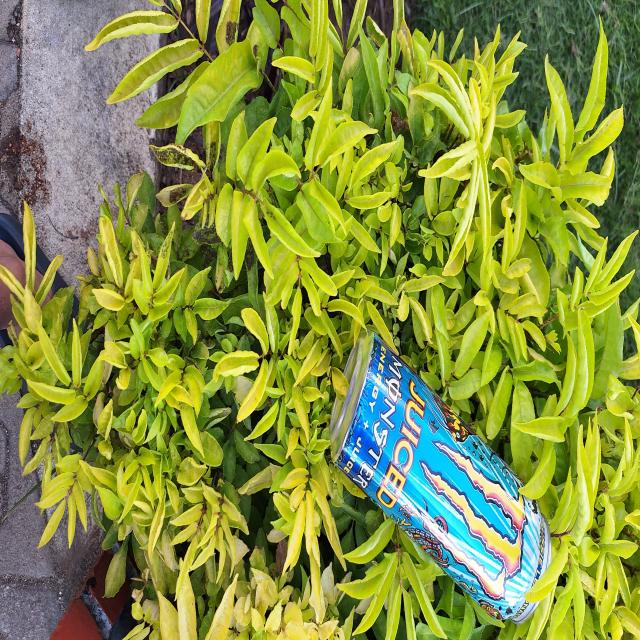Monster Aussie Lemonade: (323, 330, 552, 622)
